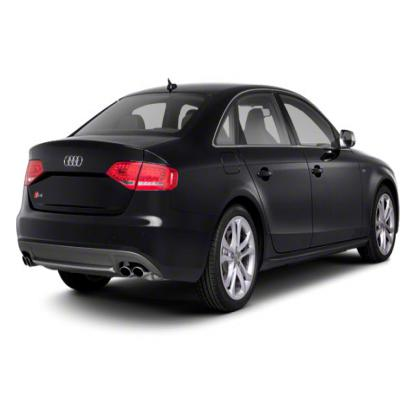Vehicle: (15, 77, 402, 317)
